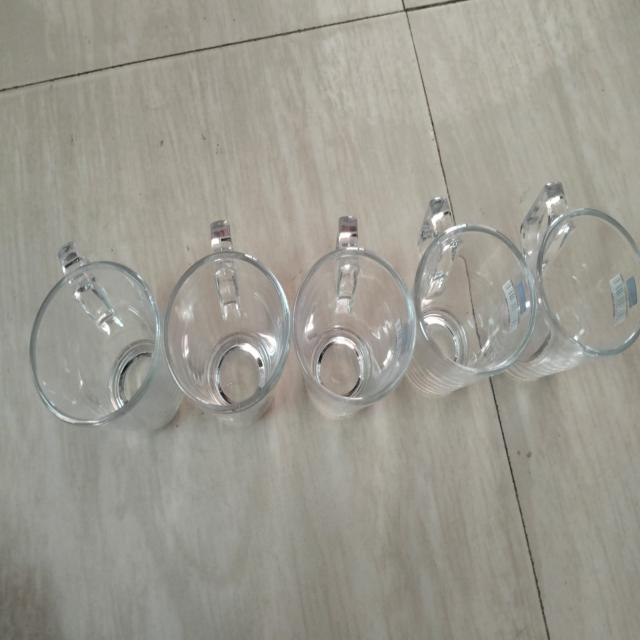glass-VX4N: (25, 232, 169, 436), (163, 216, 294, 424), (415, 192, 538, 404), (300, 214, 414, 425), (546, 183, 640, 383)
